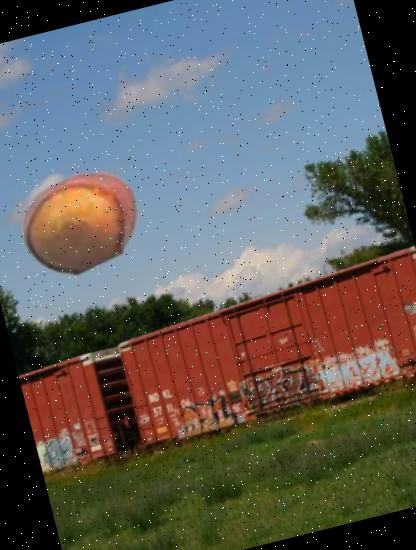Hazelnut: (4, 147, 157, 300)
